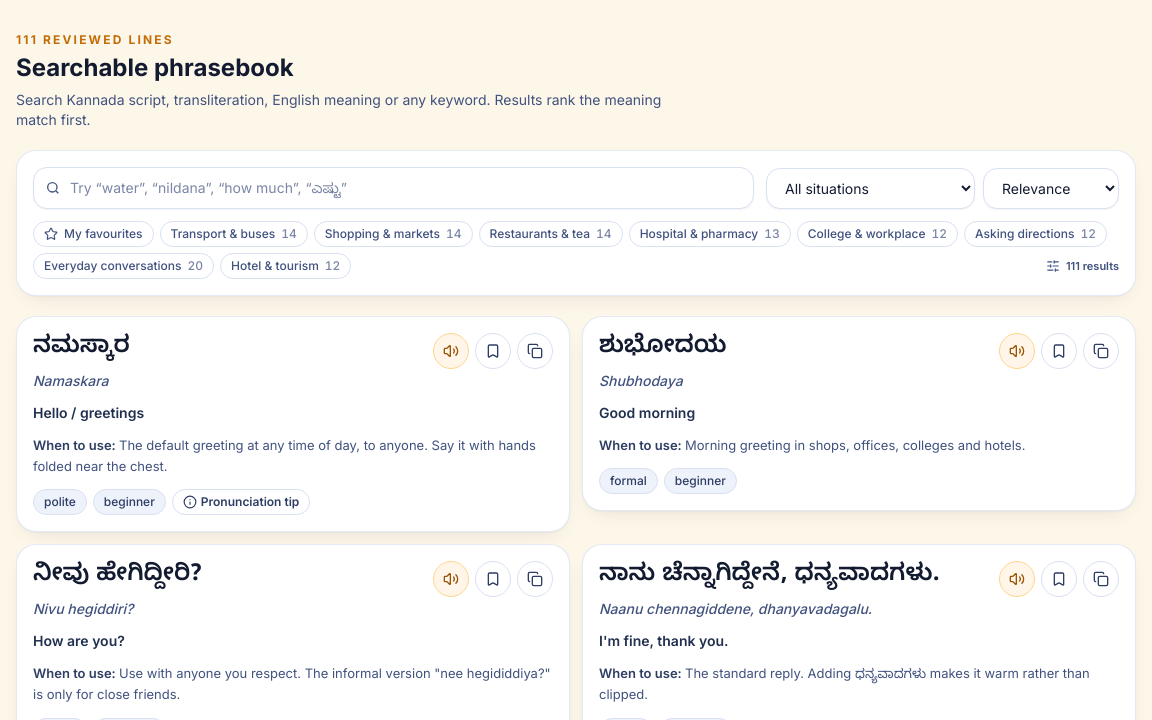
Test case: Phrasebook search › narrows results with the situation filter and can show only favourites
In the search field named "search phrases": (394, 188) 33,167 -> 754,209, type "water"
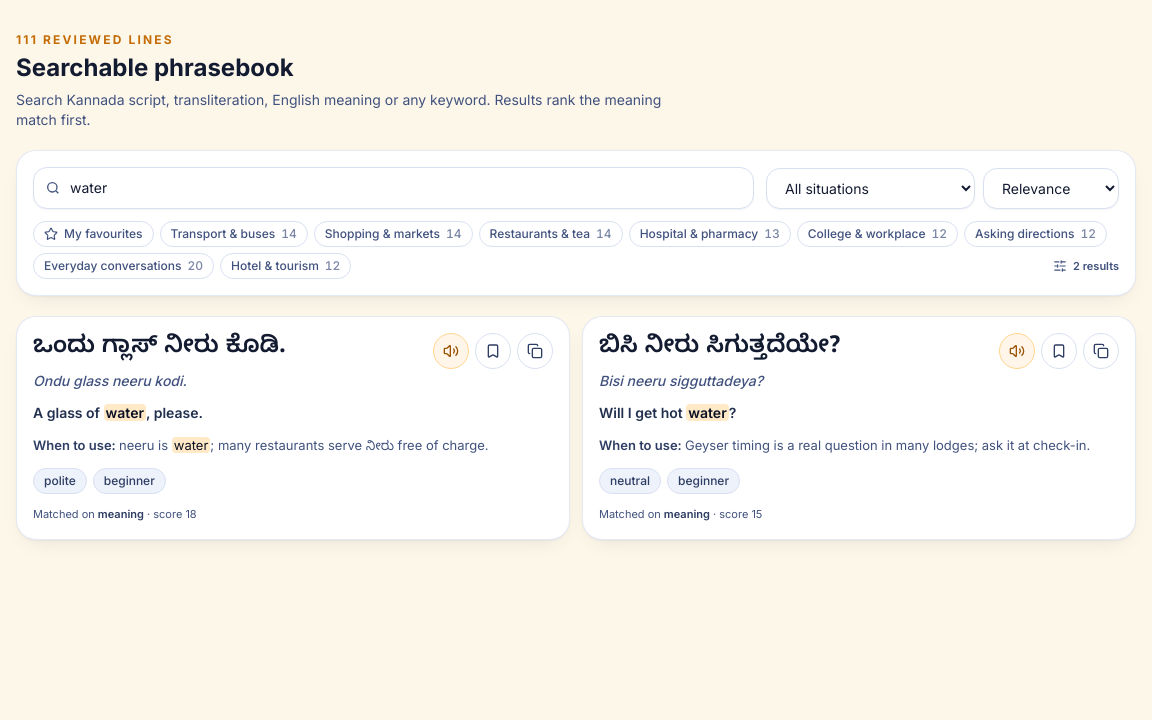
Select "Hotel & tourism" in the 1st dropdown named "filter by situation": (870, 188) 766,168 -> 975,208
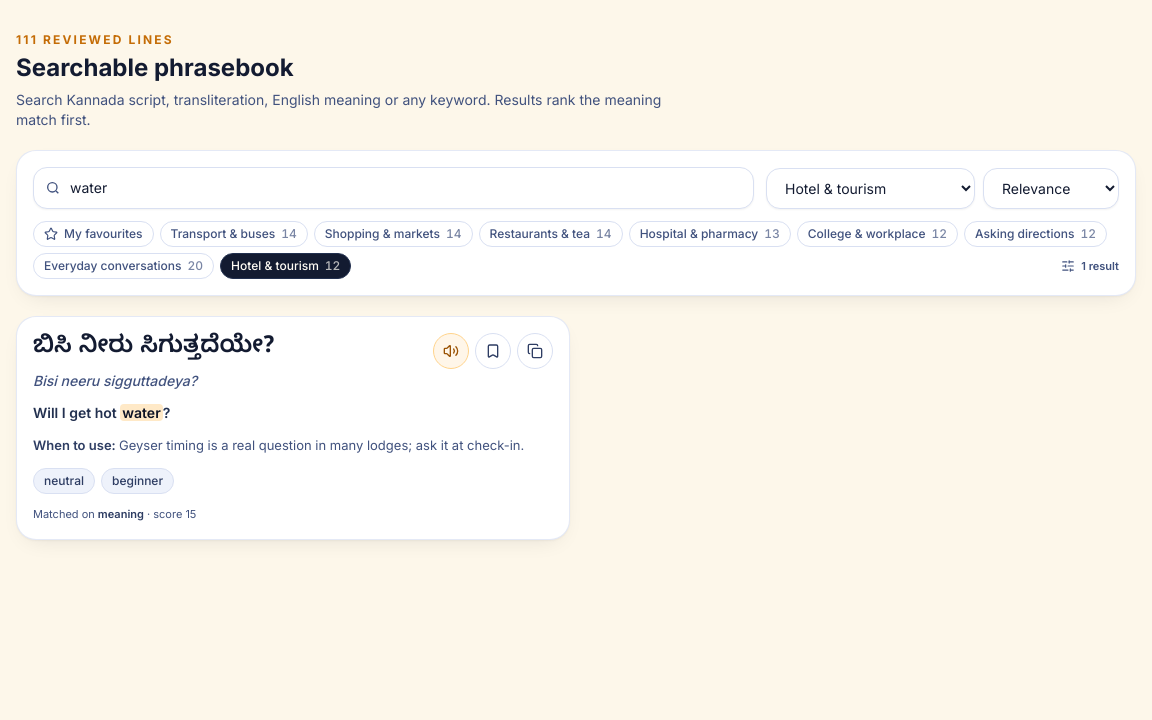
expect the text "1 result" is shown: met, box 1061,258 -> 1119,274
Click the button "My favourites": (93, 234) 33,221 -> 154,247
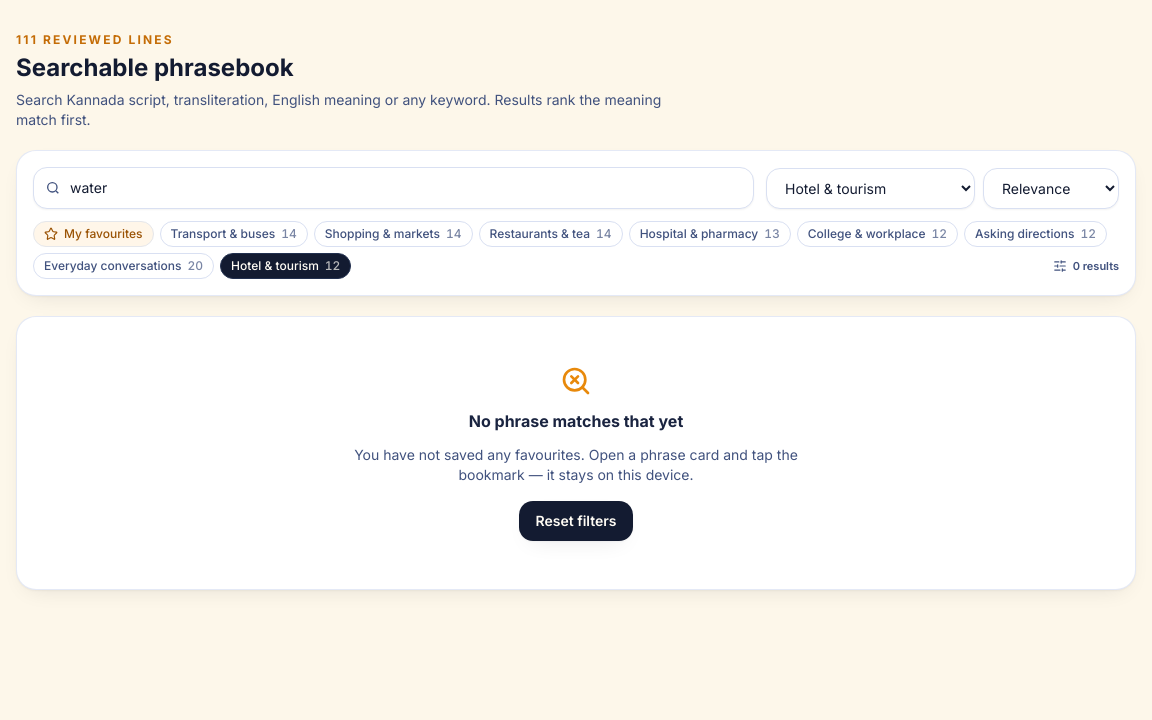
expect the heading "No phrase matches that yet" is shown: met, box 469,409 -> 683,433
